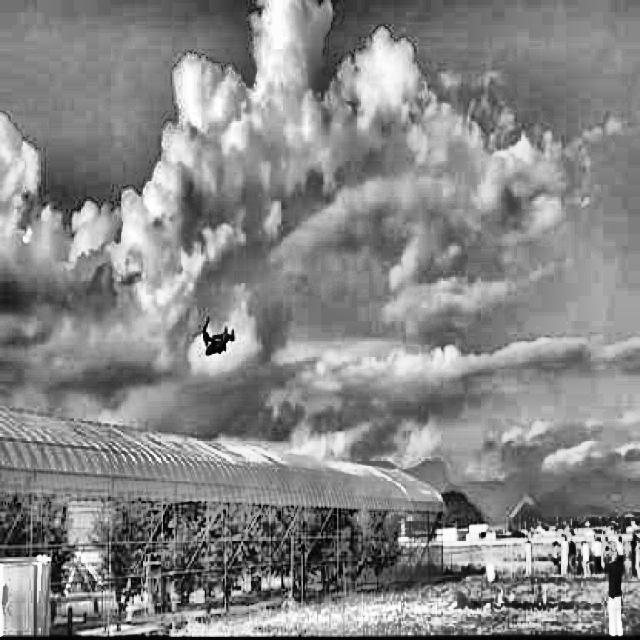V22: (191, 315, 235, 356)
